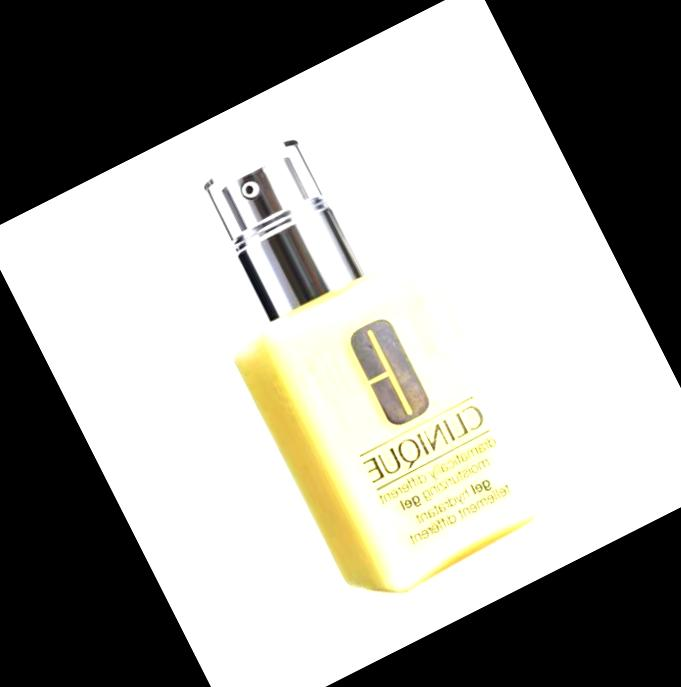cosmetic: (151, 102, 553, 611)
